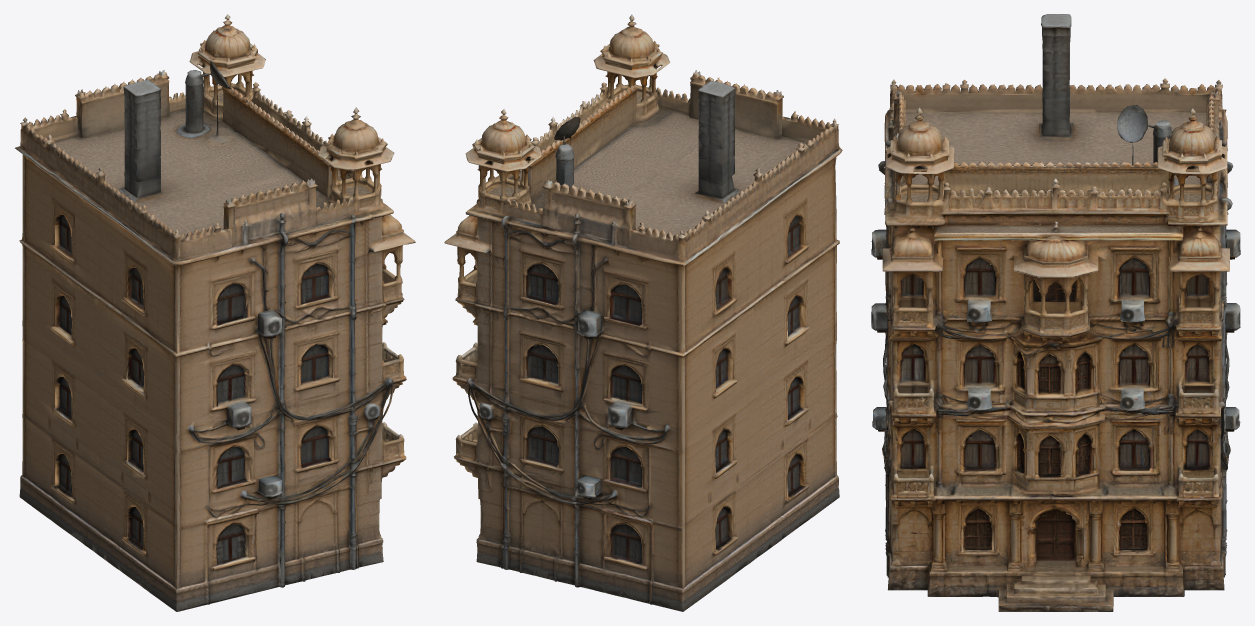
File: palace.glb
The picture shows the model from 3 angles, left to right: view 1: azimuth 30°, elevation 25°; view 2: azimuth 150°, elevation 25°; view 3: azimuth 270°, elevation 25°; orthographic projection. The views are drawn at different scales.
Parts seen in each view (by area): view 1: tripo_node_e305f5a3-29f1-4323-bf21-417a7bc6e2a4; view 2: tripo_node_e305f5a3-29f1-4323-bf21-417a7bc6e2a4; view 3: tripo_node_e305f5a3-29f1-4323-bf21-417a7bc6e2a4.
Part boxes in pixels (<box>): tripo_node_e305f5a3-29f1-4323-bf21-417a7bc6e2a4: <box>15,14,415,611</box>; tripo_node_e305f5a3-29f1-4323-bf21-417a7bc6e2a4: <box>444,14,842,611</box>; tripo_node_e305f5a3-29f1-4323-bf21-417a7bc6e2a4: <box>871,14,1240,611</box>.
Size of the model in its own units: 0.5643 by 0.9776 by 0.6737.
1 material, 1 textured.
